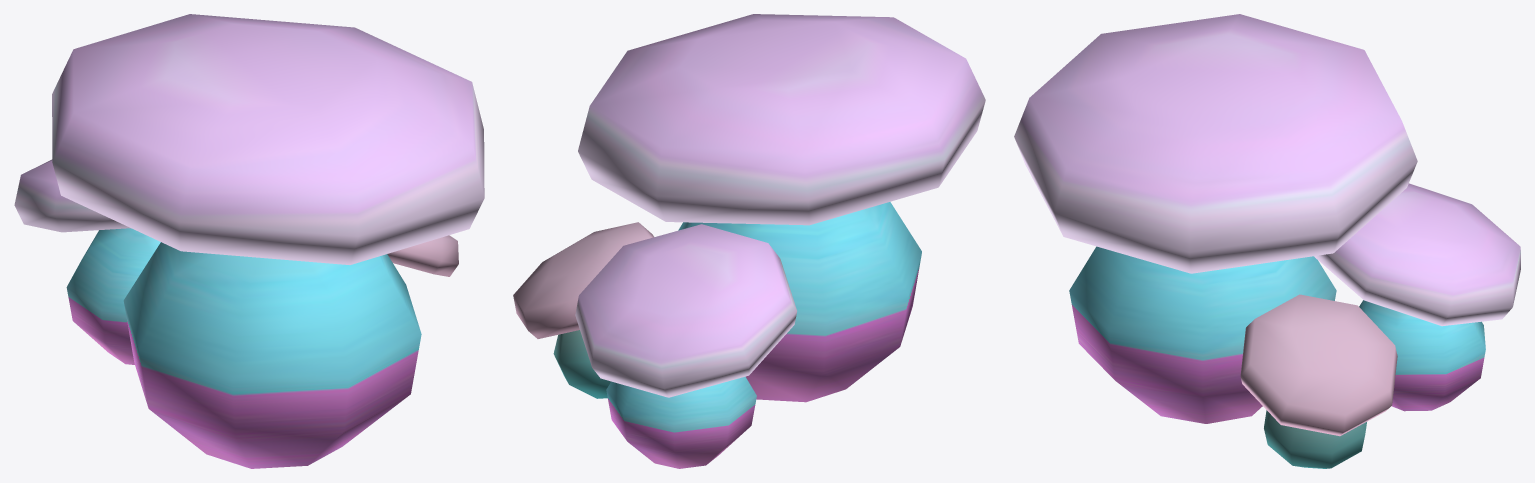
Rendered from grande_peque03.fbx.
3 renders of one model, left to right at view 1: azimuth 30°, elevation 25°; view 2: azimuth 150°, elevation 25°; view 3: azimuth 270°, elevation 25°, orthographic. The views are drawn at different scales.
Visible parts, largest first — view 1: SetaXS03, SetaXS03a, SetaXS03b; view 2: SetaXS03, SetaXS03a, SetaXS03b; view 3: SetaXS03, SetaXS03a, SetaXS03b.
Part boxes in pixels (x1,y1,x2,y2): SetaXS03: [52, 14, 484, 468]; SetaXS03a: [14, 159, 160, 364]; SetaXS03b: [387, 235, 458, 276]; SetaXS03: [578, 14, 985, 402]; SetaXS03a: [575, 224, 797, 468]; SetaXS03b: [513, 222, 653, 398]; SetaXS03: [1014, 14, 1417, 423]; SetaXS03a: [1314, 183, 1520, 411]; SetaXS03b: [1240, 294, 1397, 468].
Bounding box in the file's own units: 669 × 569 × 785.
2 materials, 2 textured.
